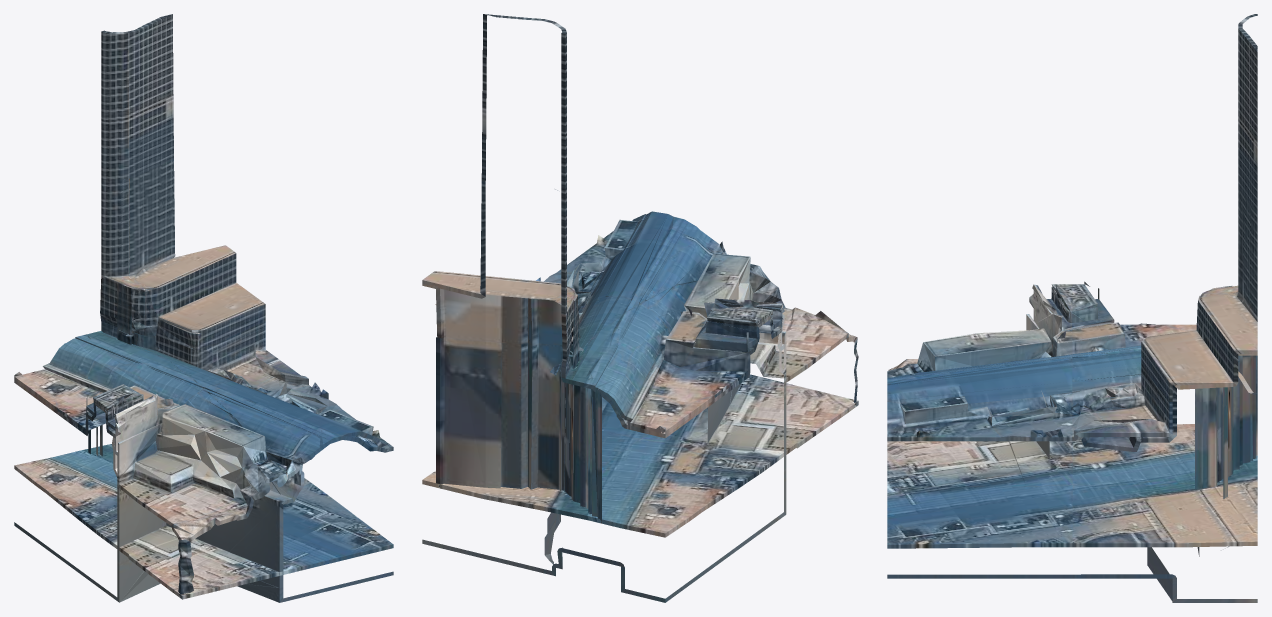
File: chunk_-1_5.glb
The picture shows the model from 3 angles, left to right: view 1: azimuth 30°, elevation 25°; view 2: azimuth 150°, elevation 25°; view 3: azimuth 270°, elevation 25°; orthographic projection. The views are drawn at different scales.
Parts seen in each view (by area): view 1: hero-chunk; view 2: hero-chunk; view 3: hero-chunk.
Boxes of the visible parts, x1=… form: hero-chunk: x1=14, y1=14, x2=393, y2=602; hero-chunk: x1=422, y1=14, x2=858, y2=602; hero-chunk: x1=887, y1=14, x2=1257, y2=602.
Size of the model in its own units: 55.73 by 119 by 76.32.
Materials: 3 (3 with a texture image).
